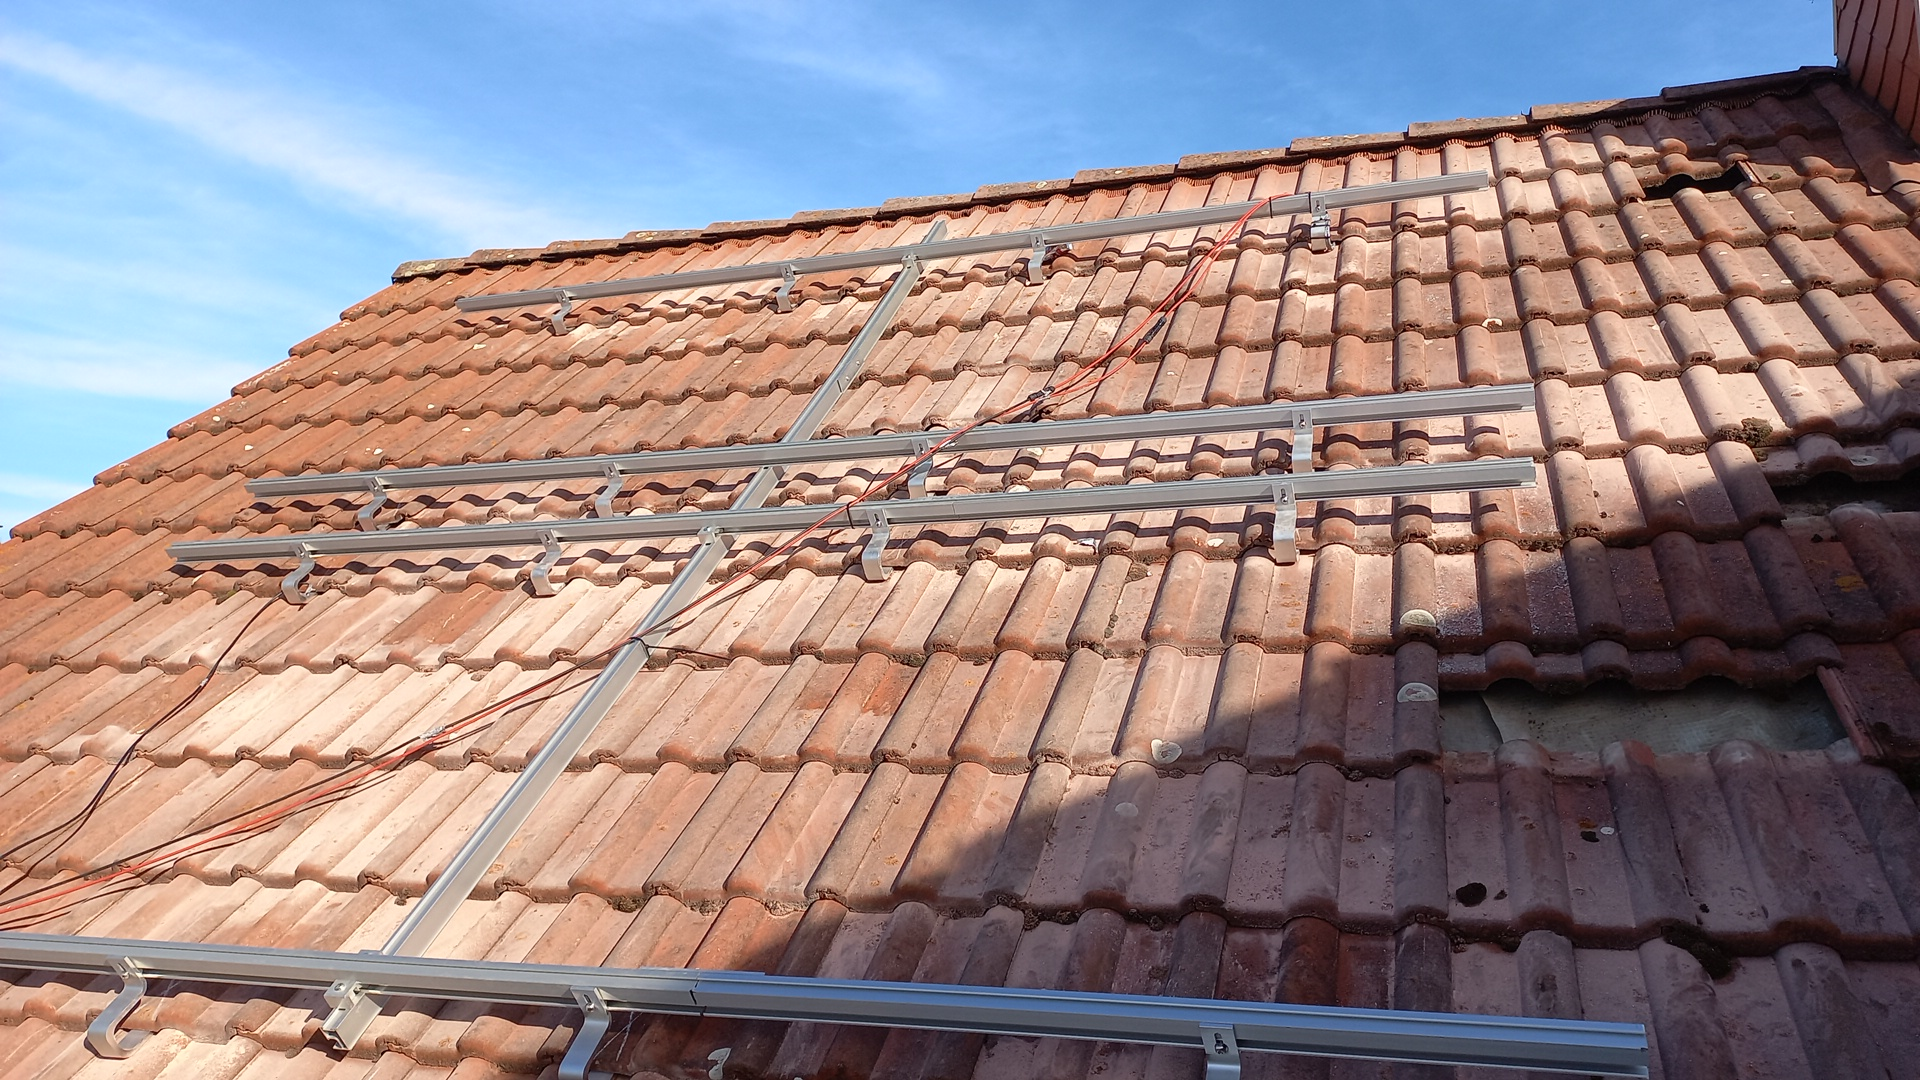hook: (87, 955, 152, 1059), (556, 986, 615, 1080), (861, 508, 895, 582), (1197, 1023, 1241, 1080), (281, 541, 316, 605), (530, 529, 564, 595), (1273, 483, 1299, 563), (593, 462, 626, 518), (907, 436, 935, 498), (357, 476, 388, 531), (1291, 407, 1313, 473), (1309, 195, 1335, 252), (775, 264, 799, 313), (551, 290, 574, 335), (1027, 232, 1046, 284)
